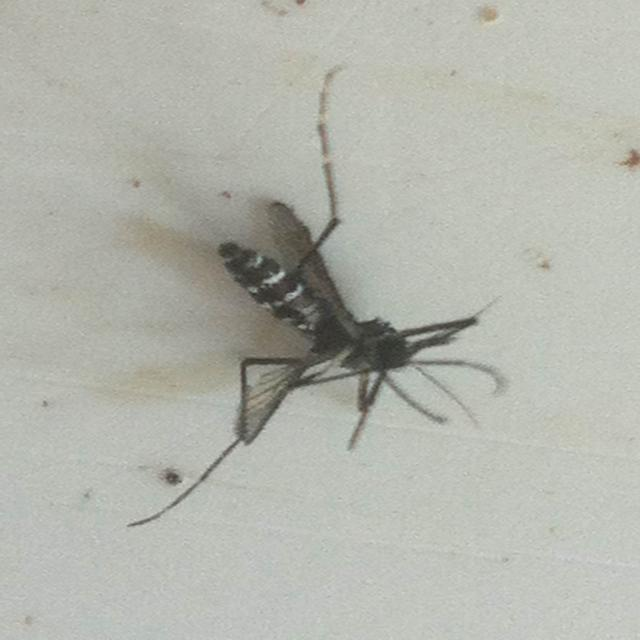albopictus: (133, 58, 541, 514)
